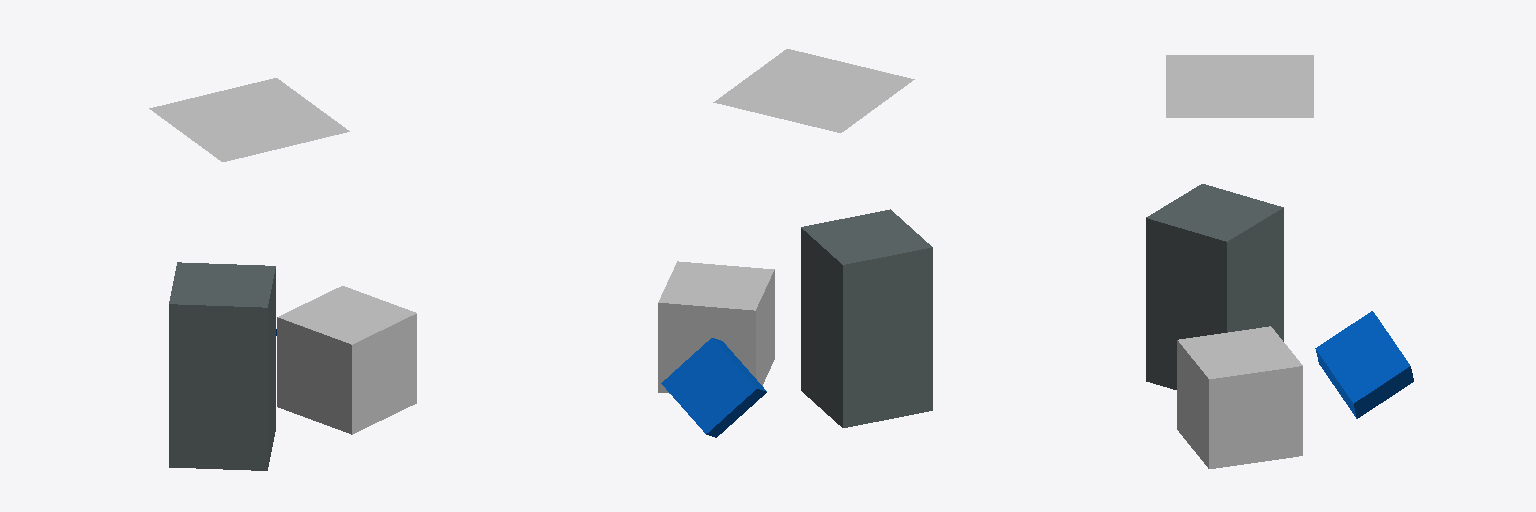
File: cubes_for_cornell_box.obj
The picture shows the model from 3 angles: view 1: azimuth 30°, elevation 25°; view 2: azimuth 150°, elevation 25°; view 3: azimuth 270°, elevation 25°; orthographic projection.
Parts seen in each view (by area): view 1: Big_Cube, Small_Cube, Plane; view 2: Big_Cube, Small_Cube, Plane, Rotated_Cube; view 3: Big_Cube, Small_Cube, Plane, Rotated_Cube.
Boxes of the visible parts, x1,y1,x2,y2 form: Big_Cube: [169, 262, 275, 470]; Small_Cube: [277, 286, 416, 434]; Plane: [149, 78, 349, 161]; Big_Cube: [801, 209, 932, 427]; Small_Cube: [658, 261, 774, 393]; Plane: [713, 49, 914, 132]; Rotated_Cube: [661, 338, 766, 437]; Big_Cube: [1146, 184, 1283, 389]; Small_Cube: [1177, 326, 1302, 468]; Plane: [1166, 55, 1313, 117]; Rotated_Cube: [1315, 311, 1413, 418].
Size of the model in its own units: 4.12 by 4.9 by 3.8.